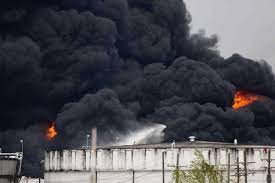smoke: (1, 1, 275, 171)
